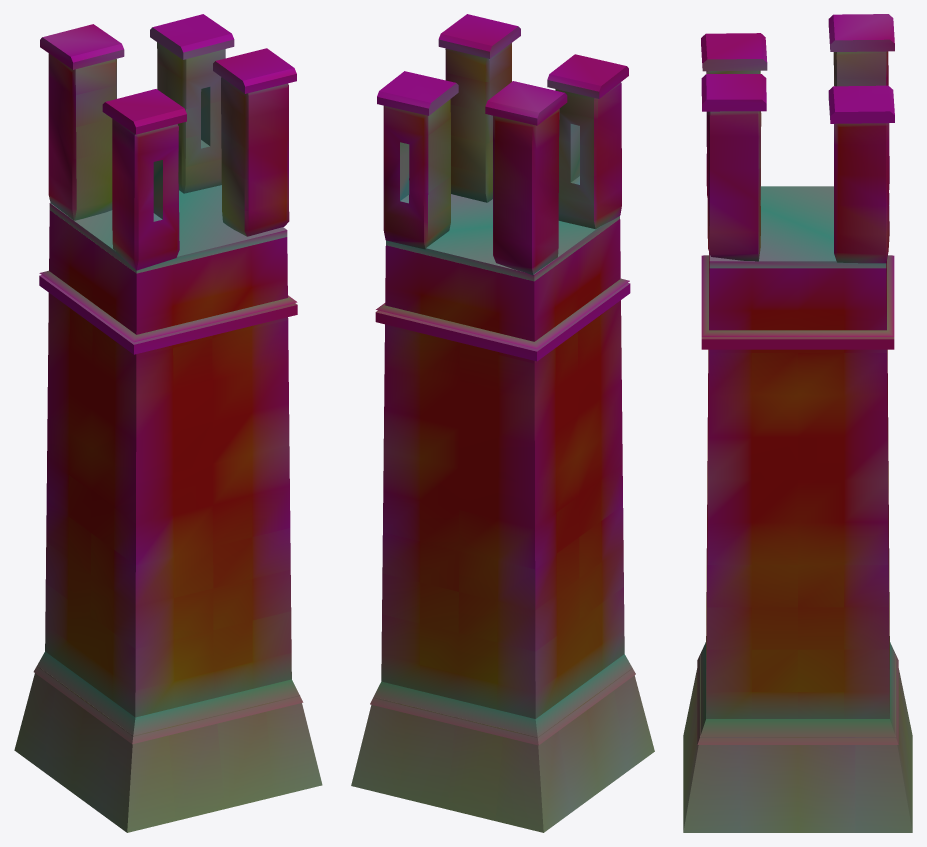
File: wall_high_post.glb
3 views of the same model, side by side, from view 1: azimuth 30°, elevation 25°; view 2: azimuth 150°, elevation 25°; view 3: azimuth 270°, elevation 25° (orthographic). The views are drawn at different scales.
Parts seen in each view (by area): view 1: wall_high_post_LOD0; view 2: wall_high_post_LOD0; view 3: wall_high_post_LOD0.
Part boxes in pixels (x1,y1,x2,y2): wall_high_post_LOD0: (14, 14, 322, 832); wall_high_post_LOD0: (351, 14, 654, 832); wall_high_post_LOD0: (683, 14, 912, 832).
Size of what is drawn, in the model's own units: 0.888 by 3.12 by 0.888.
